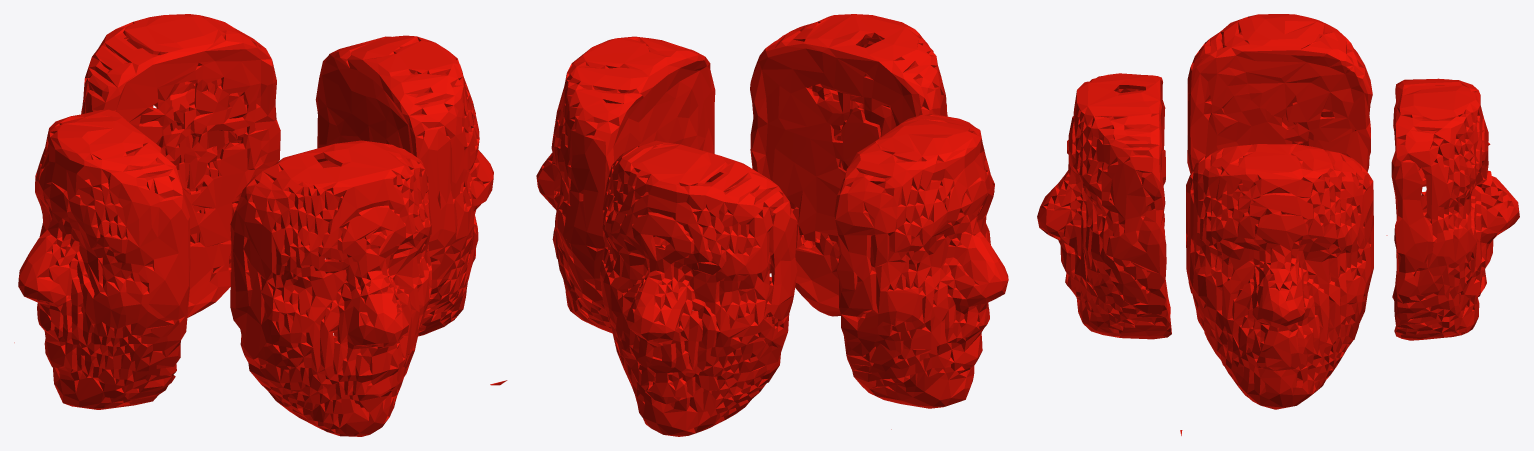
The model's file is facesnew.gltf.
The picture shows the model from 3 angles, left to right: view 1: azimuth 30°, elevation 25°; view 2: azimuth 150°, elevation 25°; view 3: azimuth 270°, elevation 25°; orthographic projection. The views are drawn at different scales.
Visible parts, largest first — view 1: c3ae9caa79eb53d3ea6f1264c2d86b31_c3ae9caa79eb53d3ea6f1264c2d; view 2: c3ae9caa79eb53d3ea6f1264c2d86b31_c3ae9caa79eb53d3ea6f1264c2d; view 3: c3ae9caa79eb53d3ea6f1264c2d86b31_c3ae9caa79eb53d3ea6f1264c2d.
Part boxes in pixels (left/top/right/bottom): c3ae9caa79eb53d3ea6f1264c2d86b31_c3ae9caa79eb53d3ea6f1264c2d: left=14, top=14, right=507, bottom=436; c3ae9caa79eb53d3ea6f1264c2d86b31_c3ae9caa79eb53d3ea6f1264c2d: left=536, top=14, right=1008, bottom=436; c3ae9caa79eb53d3ea6f1264c2d86b31_c3ae9caa79eb53d3ea6f1264c2d: left=1037, top=14, right=1519, bottom=435.
Bounding box in the file's own units: 45.12 × 27.26 × 45.24.
